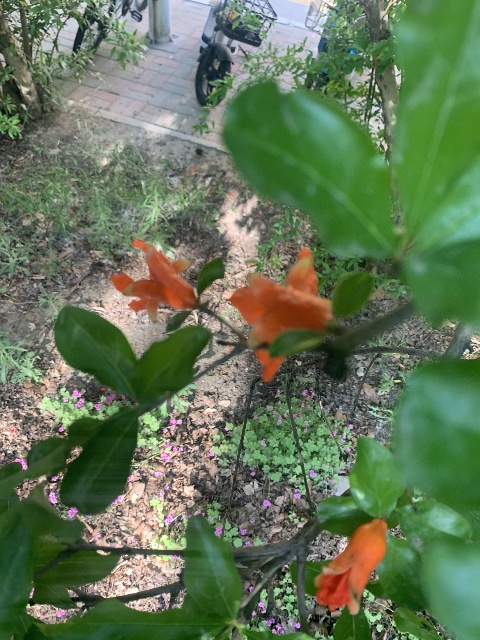flower: (229, 246, 333, 381), (314, 518, 387, 614), (110, 239, 196, 320)
